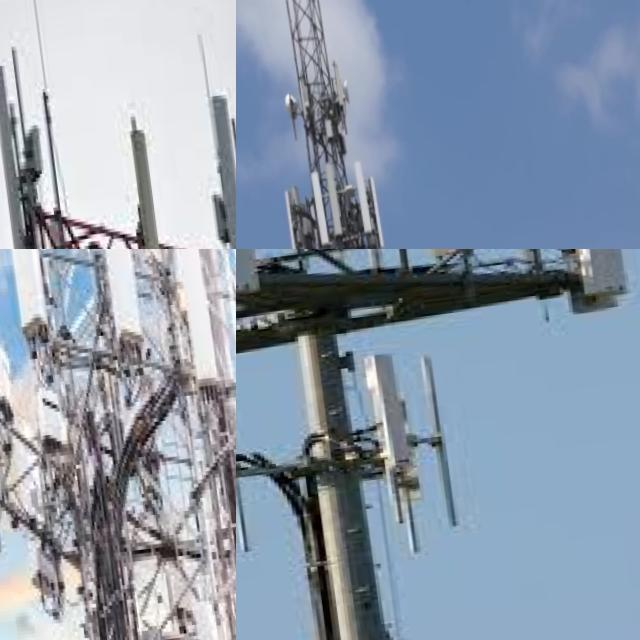GSM Antenna: (357, 350, 425, 487), (164, 249, 224, 389), (91, 249, 147, 352), (126, 125, 172, 249), (0, 59, 30, 249), (0, 249, 58, 346), (206, 93, 236, 249), (549, 249, 634, 301), (346, 159, 377, 249), (364, 175, 391, 249), (275, 188, 307, 249), (305, 174, 330, 249), (324, 182, 347, 249), (331, 69, 346, 123)
Microwave Antenna: (279, 85, 303, 129), (339, 77, 353, 108)
